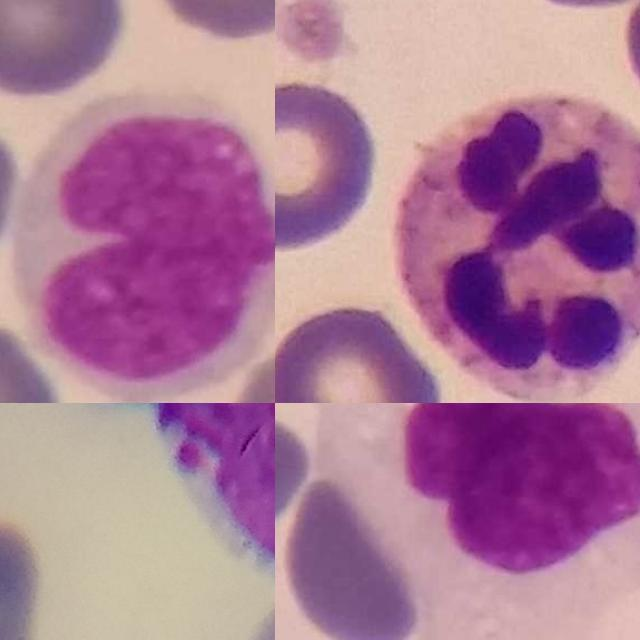Basophil: (147, 403, 275, 595)
Monocyte: (12, 86, 275, 403), (319, 403, 640, 609)
Neutrophil: (391, 92, 640, 403)
